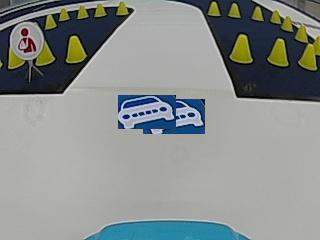cone: (230, 34, 253, 63), (65, 35, 87, 64), (268, 38, 289, 67), (36, 40, 54, 66), (299, 44, 316, 70), (8, 47, 24, 68), (294, 24, 308, 42), (115, 1, 128, 15), (94, 3, 107, 17), (207, 2, 221, 15), (228, 3, 241, 17), (45, 14, 57, 29), (76, 5, 88, 19), (281, 16, 292, 31), (252, 6, 263, 20), (270, 10, 281, 23), (59, 8, 69, 20)
patient: (10, 24, 44, 55)
